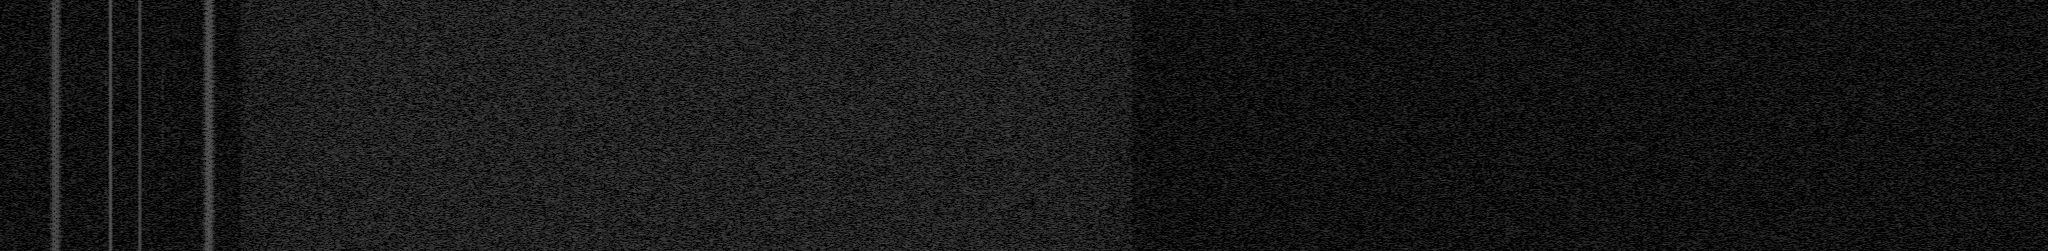wv_am: (108, 0, 114, 251)
wv_cw: (137, 0, 142, 251)
wv_dvbt_8kfft: (232, 0, 1151, 251)
wv_lsb: (103, 173, 108, 234), (103, 105, 108, 150), (159, 120, 165, 156), (159, 67, 165, 102), (103, 65, 108, 95), (161, 184, 165, 197), (104, 153, 108, 163), (159, 175, 165, 183), (161, 14, 165, 21), (104, 97, 108, 103), (104, 241, 107, 248), (161, 31, 165, 37), (161, 25, 165, 30), (161, 199, 165, 203), (161, 41, 165, 44), (161, 230, 165, 233), (104, 165, 107, 169), (104, 48, 107, 52)
wv_wbfm: (199, 0, 219, 251), (47, 0, 64, 251)
